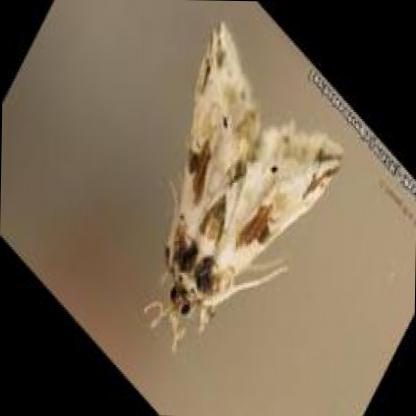leucinodes: (163, 19, 343, 319)
